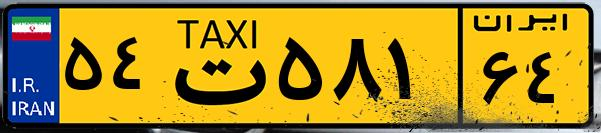1: (385, 28, 445, 110)
4: (525, 38, 570, 115), (110, 28, 158, 98)
5: (270, 28, 330, 110), (57, 26, 110, 100)
6: (475, 38, 525, 113)
8: (330, 28, 385, 110)
ت: (158, 12, 270, 120)
